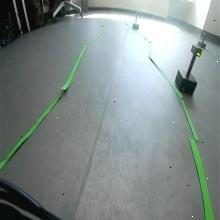green: (190, 44, 202, 57)
